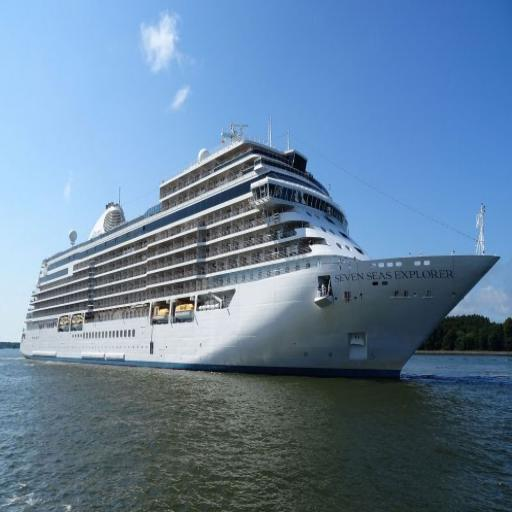cruises: (20, 117, 506, 397)
